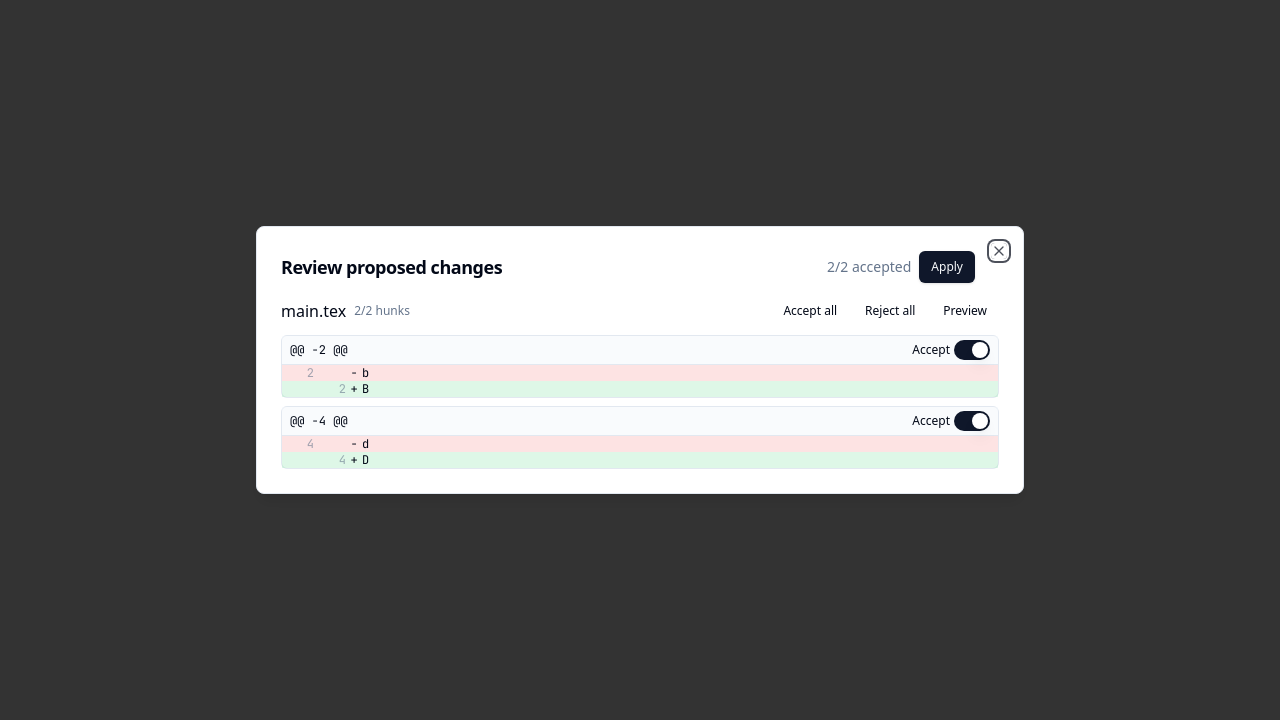
Test: DiffReviewDialog (apply toasts) › renders a distinct error summary and a toast.error when a file fails to apply (#190/AC3)
Expected: the text "main.tex" is shown, 281,299 -> 346,323
Click the button "Apply". click: (947,267)
box: 919,251 -> 975,283
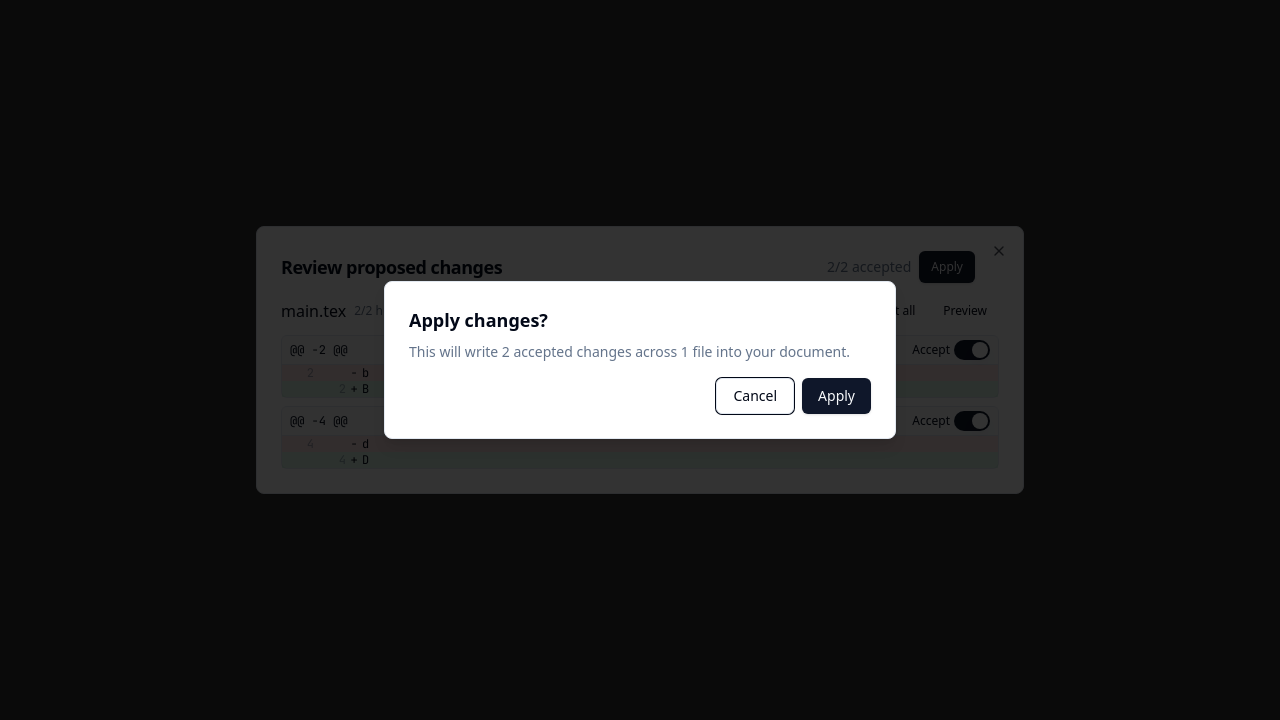
Click the button "Apply". click: (837,396)
box: 802,378 -> 871,414
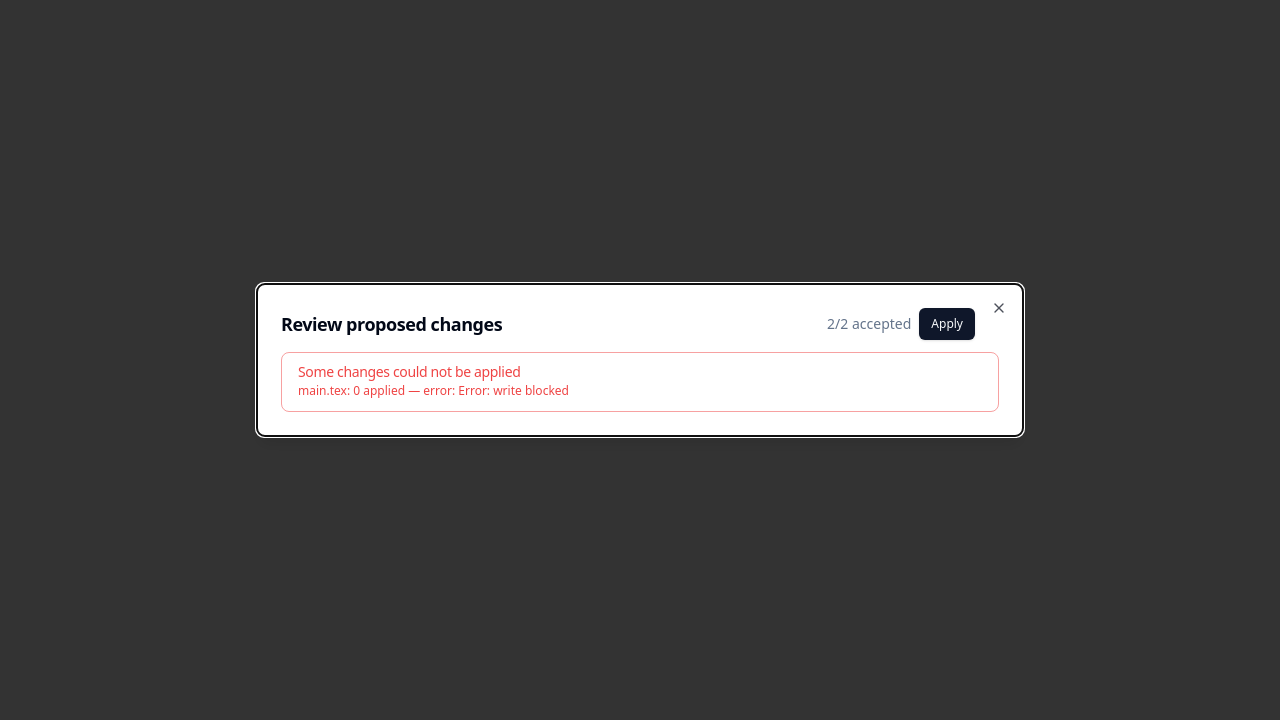
Expected: the heading "Some changes could not be applied" is shown, 298,362 -> 520,381
Expected: the text "main.tex: 0 applied — error: Error: write blocked" is shown, 298,382 -> 569,399
